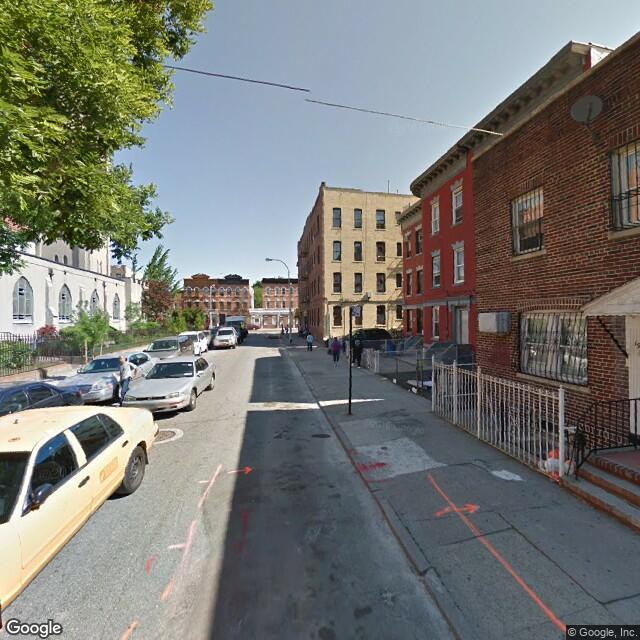litter: (390, 377, 399, 386), (410, 386, 419, 394)
